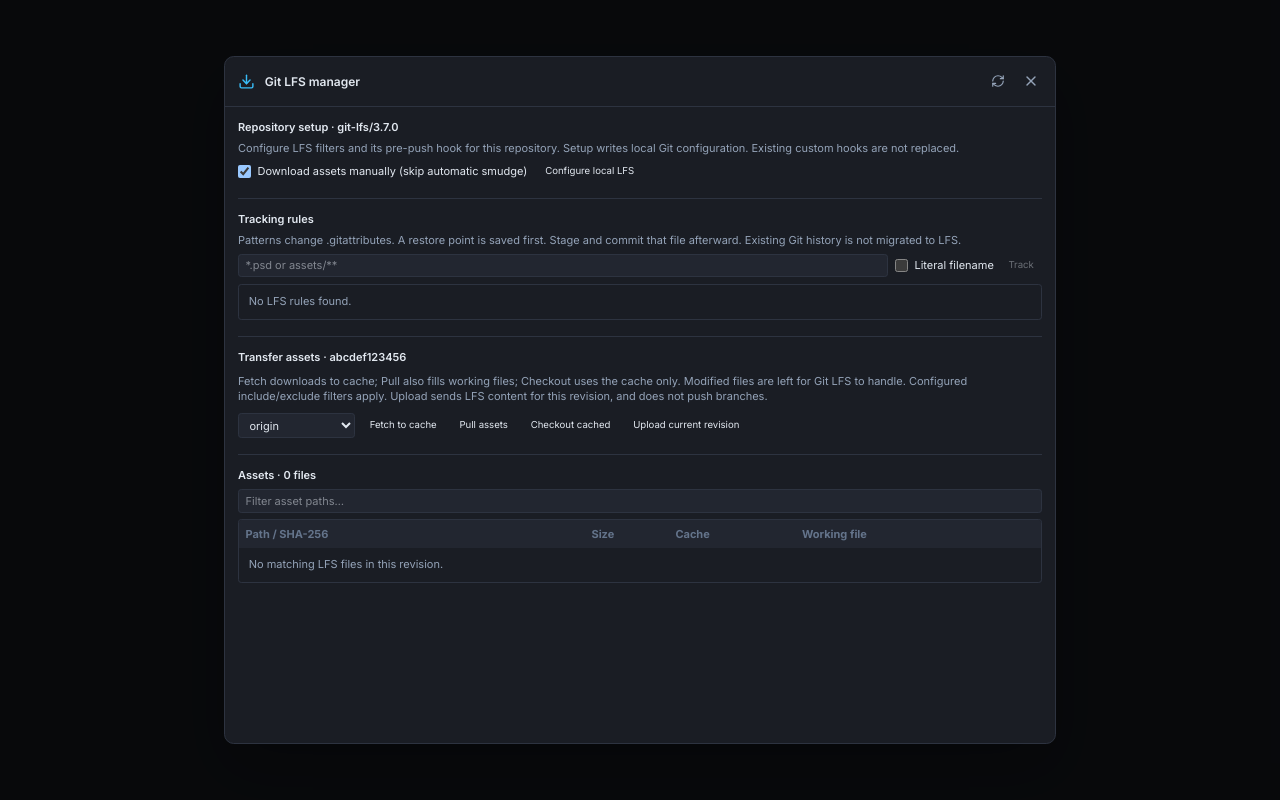
Test case: Git LFS manager › configures smudge behavior and tracks literal filenames without altering old history
Click the checkbox labelled "Download assets manually (skip automatic smudge)": (244, 172) x1=238 y1=165 x2=251 y2=178
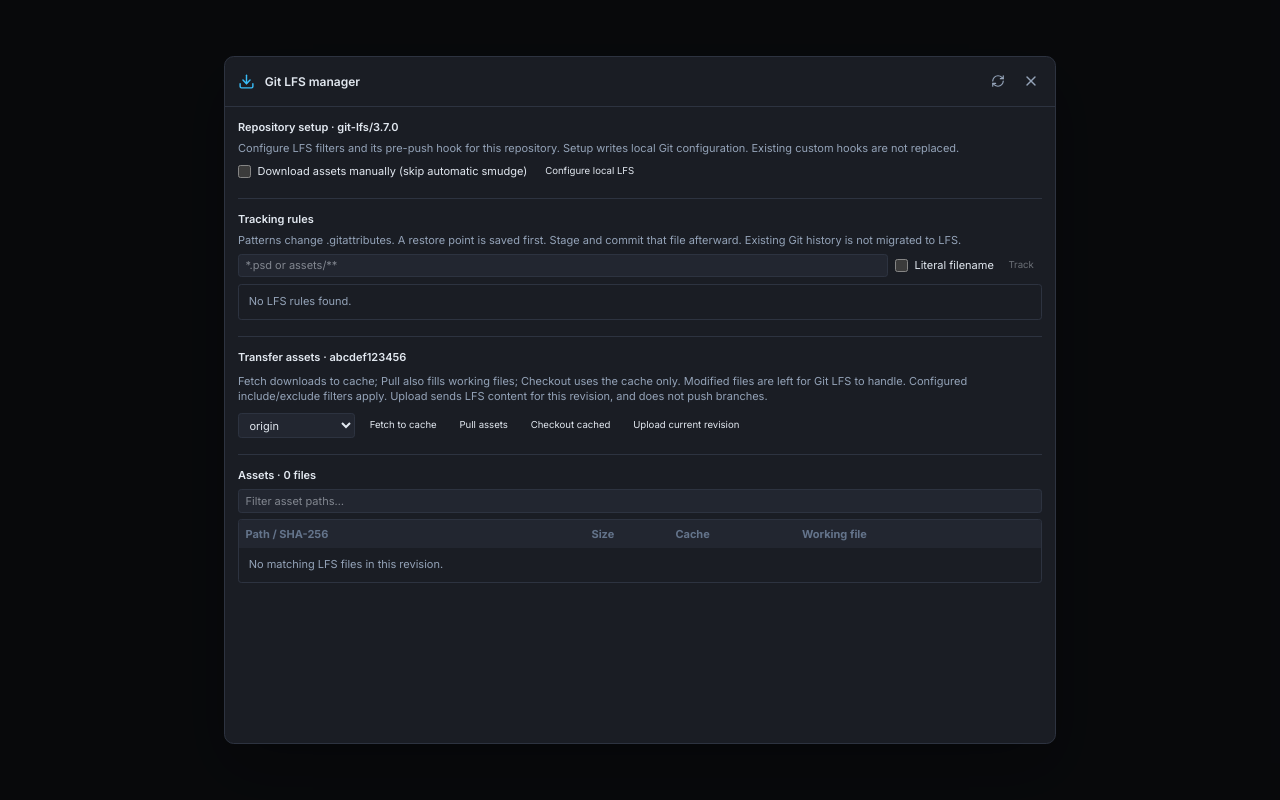
Click the button "Configure local LFS": (590, 172) x1=537 y1=162 x2=642 y2=181
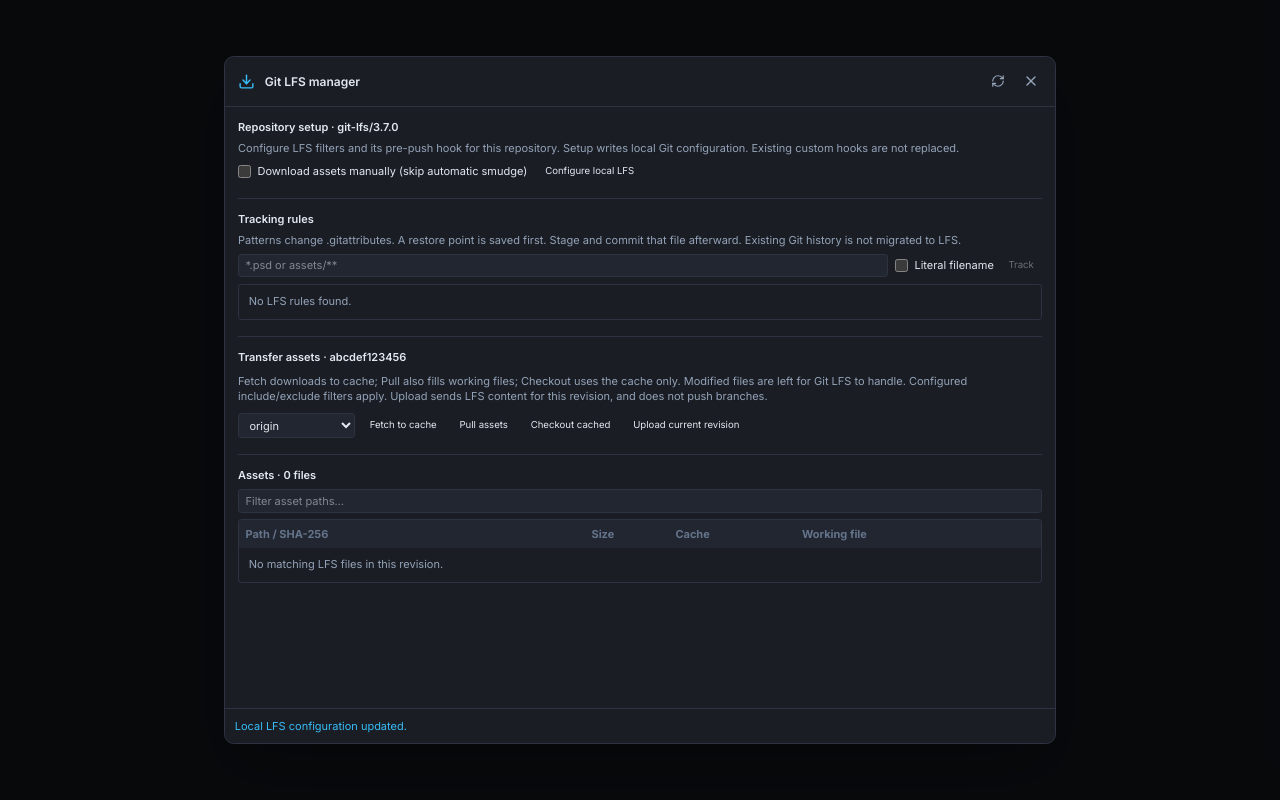
Check: the button "Track" is disabled, box x1=1000 y1=254 x2=1042 y2=277
Check: the text "Local LFS configuration updated." is shown, box x1=225 y1=708 x2=1055 y2=743
In the field named "LFS tracking pattern": (563, 266) x1=238 y1=254 x2=888 y2=277, type "assets/file[1].psd"
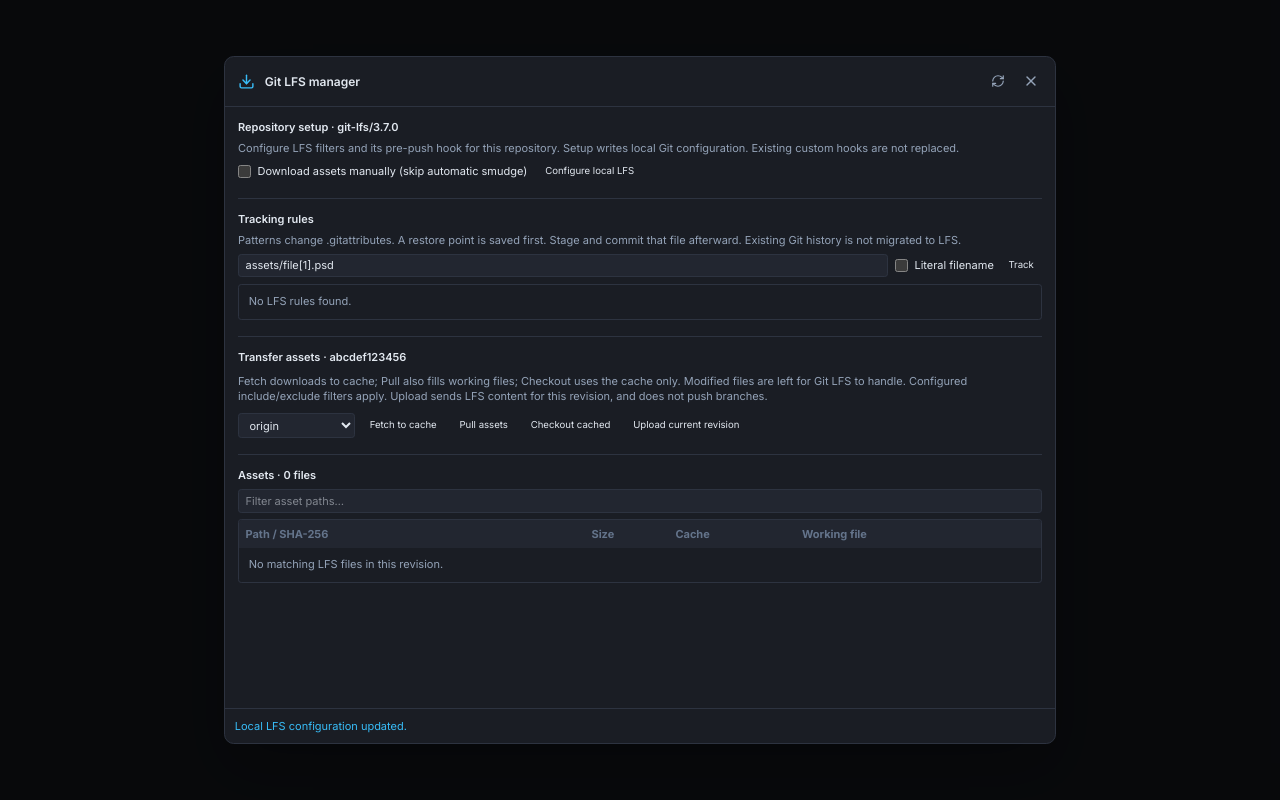
Click the checkbox labelled "Literal filename": (901, 266) x1=895 y1=259 x2=908 y2=272
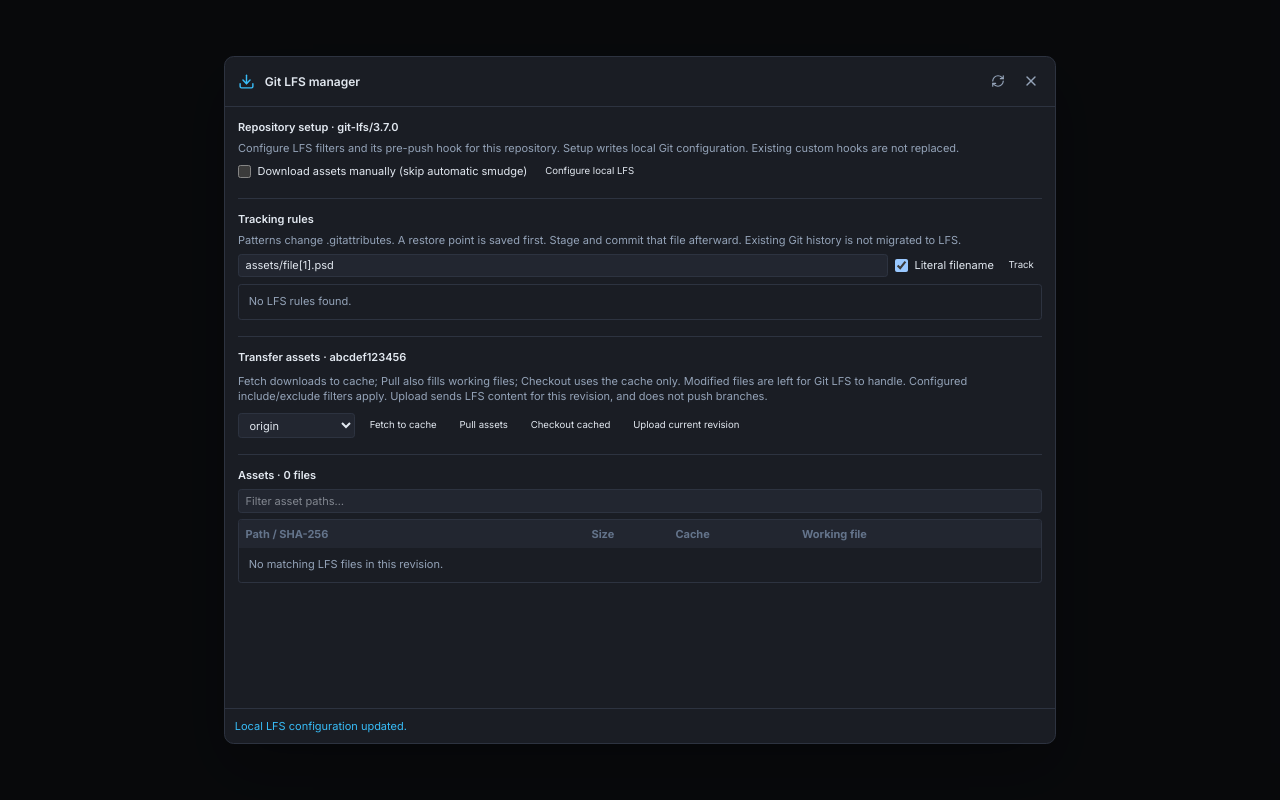
Click the button "Track": (1021, 266) x1=1000 y1=254 x2=1042 y2=277
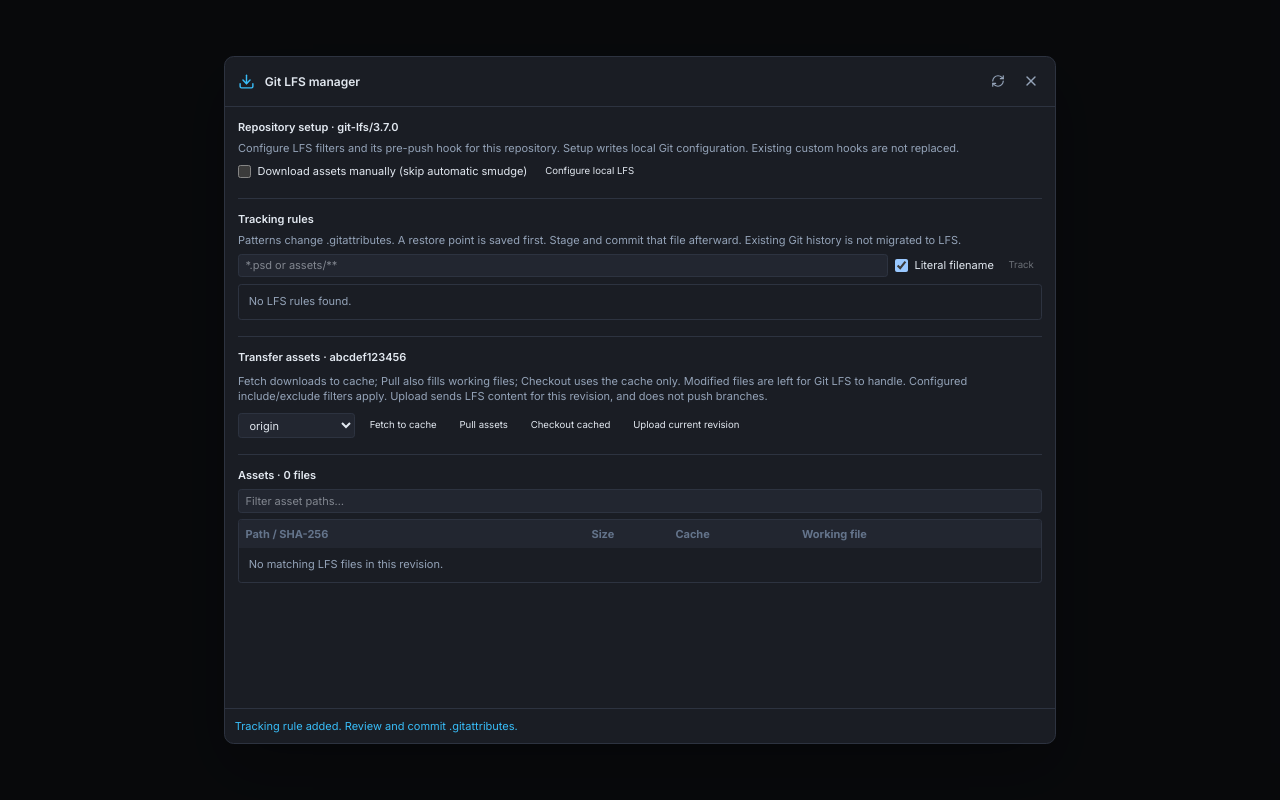
Check: the text "Tracking rule added. Review and commit .gitattributes." is shown, box x1=225 y1=708 x2=1055 y2=743
Check: the field named "LFS tracking pattern" is empty, box x1=238 y1=254 x2=888 y2=277
